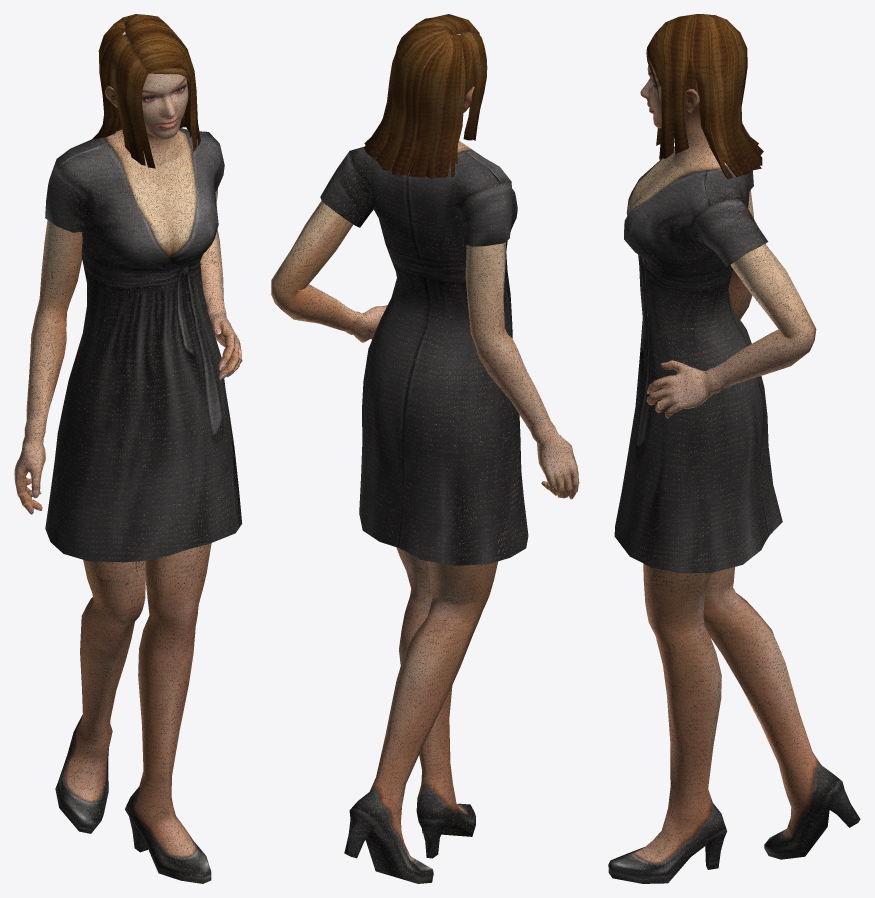
Rendered from WalkingGirl.obj.
3 renders of one model, left to right at view 1: azimuth 30°, elevation 25°; view 2: azimuth 150°, elevation 25°; view 3: azimuth 270°, elevation 25°, orthographic.
Parts seen in each view (by area): view 1: Mesh1 objpolySur1 skp19C1_1 G_3D_City_People___Female_02___iClon, Mesh3 objpolySur1 skp19C1_1 G_3D_City_People___Female_02___iClon, Mesh5 objpolySur1 skp19C1_1 G_3D_City_People___Female_02___iClon, Mesh6 objpolySur1 skp19C1_1 G_3D_City_People___Female_02___iClon, Mesh4 objpolySur1 skp19C1_1 G_3D_City_People___Female_02___iClon, Mesh2 objpolySur1 skp19C1_1 G_3D_City_People___Female_02___iClon; view 2: Mesh1 objpolySur1 skp19C1_1 G_3D_City_People___Female_02___iClon, Mesh5 objpolySur1 skp19C1_1 G_3D_City_People___Female_02___iClon, Mesh6 objpolySur1 skp19C1_1 G_3D_City_People___Female_02___iClon, Mesh4 objpolySur1 skp19C1_1 G_3D_City_People___Female_02___iClon, Mesh3 objpolySur1 skp19C1_1 G_3D_City_People___Female_02___iClon, Mesh2 objpolySur1 skp19C1_1 G_3D_City_People___Female_02___iClon; view 3: Mesh1 objpolySur1 skp19C1_1 G_3D_City_People___Female_02___iClon, Mesh3 objpolySur1 skp19C1_1 G_3D_City_People___Female_02___iClon, Mesh5 objpolySur1 skp19C1_1 G_3D_City_People___Female_02___iClon, Mesh6 objpolySur1 skp19C1_1 G_3D_City_People___Female_02___iClon, Mesh2 objpolySur1 skp19C1_1 G_3D_City_People___Female_02___iClon, Mesh4 objpolySur1 skp19C1_1 G_3D_City_People___Female_02___iClon.
Boxes of the visible parts, x1,y1,x2,y2 form: Mesh1 objpolySur1 skp19C1_1 G_3D_City_People___Female_02___iClon: [45, 69, 242, 562]; Mesh3 objpolySur1 skp19C1_1 G_3D_City_People___Female_02___iClon: [125, 543, 211, 883]; Mesh5 objpolySur1 skp19C1_1 G_3D_City_People___Female_02___iClon: [55, 559, 145, 833]; Mesh6 objpolySur1 skp19C1_1 G_3D_City_People___Female_02___iClon: [92, 14, 200, 168]; Mesh4 objpolySur1 skp19C1_1 G_3D_City_People___Female_02___iClon: [14, 220, 82, 514]; Mesh2 objpolySur1 skp19C1_1 G_3D_City_People___Female_02___iClon: [200, 188, 242, 379]; Mesh1 objpolySur1 skp19C1_1 G_3D_City_People___Female_02___iClon: [320, 83, 528, 565]; Mesh5 objpolySur1 skp19C1_1 G_3D_City_People___Female_02___iClon: [344, 561, 498, 883]; Mesh6 objpolySur1 skp19C1_1 G_3D_City_People___Female_02___iClon: [364, 14, 487, 178]; Mesh4 objpolySur1 skp19C1_1 G_3D_City_People___Female_02___iClon: [465, 242, 579, 499]; Mesh3 objpolySur1 skp19C1_1 G_3D_City_People___Female_02___iClon: [396, 547, 475, 858]; Mesh2 objpolySur1 skp19C1_1 G_3D_City_People___Female_02___iClon: [271, 201, 387, 342]; Mesh1 objpolySur1 skp19C1_1 G_3D_City_People___Female_02___iClon: [614, 59, 782, 573]; Mesh3 objpolySur1 skp19C1_1 G_3D_City_People___Female_02___iClon: [608, 563, 727, 883]; Mesh5 objpolySur1 skp19C1_1 G_3D_City_People___Female_02___iClon: [703, 567, 860, 859]; Mesh6 objpolySur1 skp19C1_1 G_3D_City_People___Female_02___iClon: [646, 14, 763, 179]; Mesh2 objpolySur1 skp19C1_1 G_3D_City_People___Female_02___iClon: [646, 244, 816, 418]; Mesh4 objpolySur1 skp19C1_1 G_3D_City_People___Female_02___iClon: [728, 190, 753, 319].
Bounding box in the file's own units: 0.5277 × 1.67 × 0.4502.
Materials: 5 (3 with a texture image).
